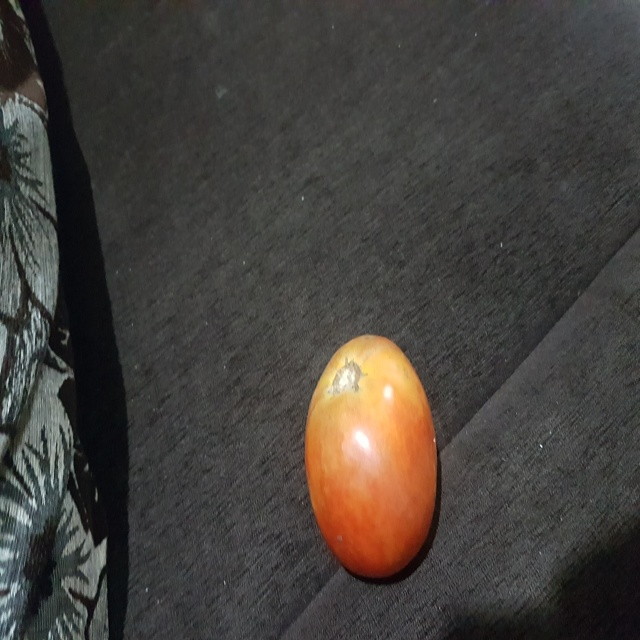tomato: (296, 328, 451, 589)
